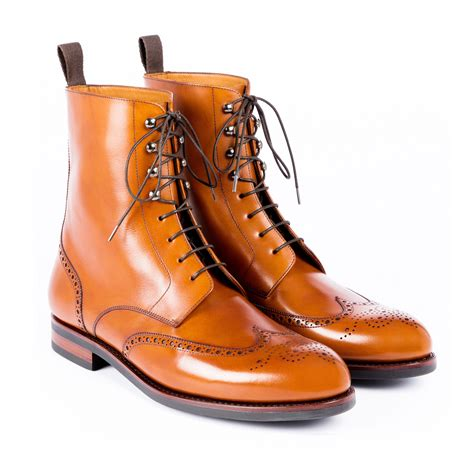cuero: (49, 73, 431, 403)
